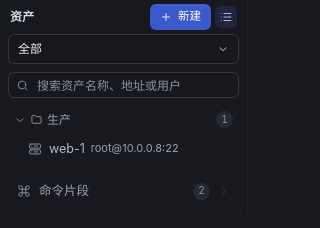
asset group controls › keeps a group collapsed across remounts
The image size is (320, 228).
Click the button "生产": x=112, y=120 [14,112,209,128]
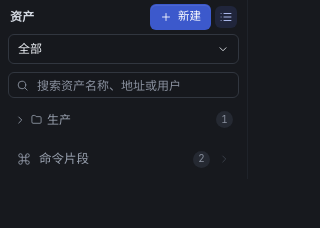
Expected: the text "生产" is shown, [47,112,71,126]
Expected: the text "web-1" is gone
Click the button "生产": x=112, y=120 [14,112,209,128]
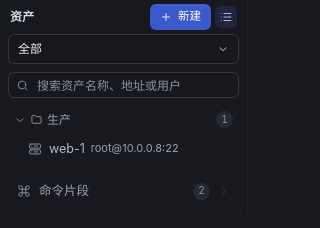
Expected: the text "web-1" is shown, [49,139,85,159]
